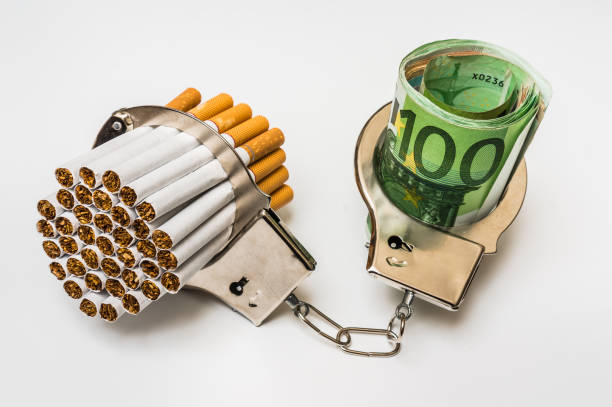cigarette: (77, 91, 234, 188), (52, 87, 202, 188), (159, 184, 294, 295), (157, 164, 290, 272), (135, 127, 286, 222), (101, 102, 254, 194), (117, 115, 270, 207), (151, 147, 286, 250), (36, 192, 65, 221), (120, 291, 152, 316), (99, 297, 126, 324), (92, 186, 120, 212), (79, 292, 105, 317), (111, 202, 135, 228), (54, 212, 80, 236), (141, 279, 167, 303), (48, 254, 70, 282), (116, 246, 142, 269), (120, 268, 146, 291), (138, 258, 163, 281), (80, 244, 103, 269), (131, 218, 157, 240), (63, 277, 87, 300), (105, 277, 127, 302), (99, 258, 125, 279), (95, 234, 118, 257), (76, 224, 100, 246), (82, 271, 106, 293), (111, 226, 134, 248), (41, 238, 62, 260), (66, 255, 87, 277), (57, 236, 81, 255), (92, 213, 113, 234), (56, 189, 76, 211), (75, 185, 94, 206), (72, 205, 92, 224), (135, 240, 156, 258)
